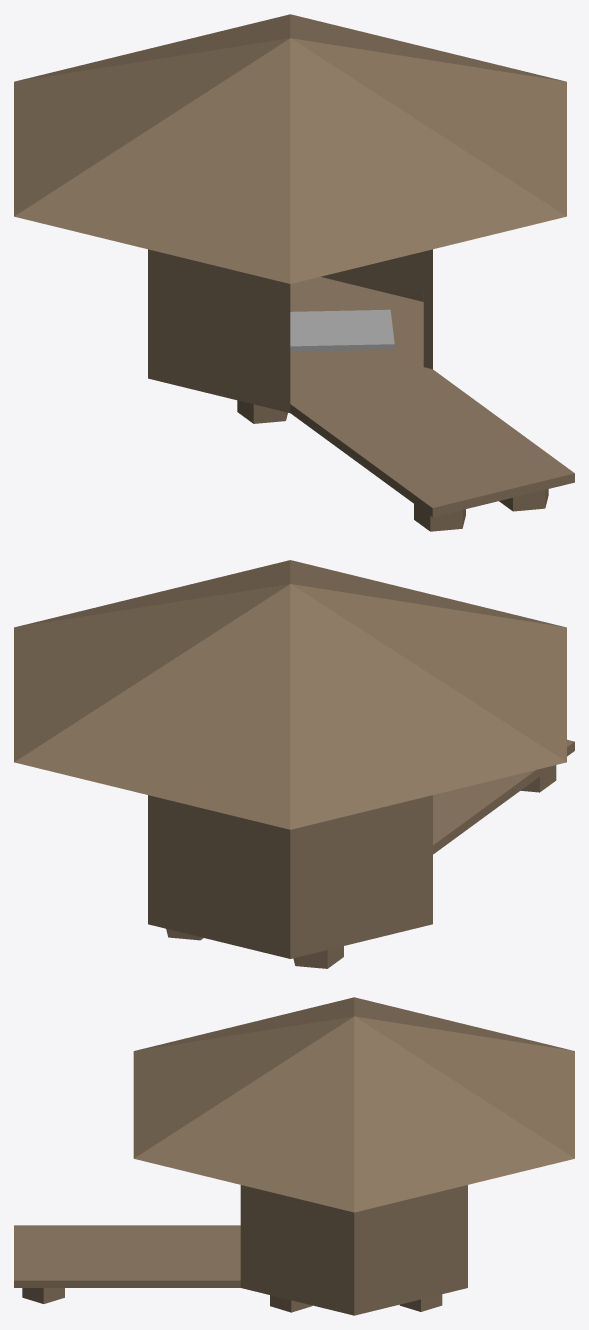
File: SM_Hut-1_Round_01.fbx
The picture shows the model from 3 angles, top to bottom: view 1: azimuth 30°, elevation 25°; view 2: azimuth 150°, elevation 25°; view 3: azimuth 270°, elevation 25°; orthographic projection. The views are drawn at different scales.
Parts seen in each view (by area): view 1: polySurface51; view 2: polySurface51; view 3: polySurface51.
Boxes of the visible parts, x1=… form: polySurface51: x1=14, y1=14, x2=574, y2=531; polySurface51: x1=14, y1=560, x2=574, y2=968; polySurface51: x1=14, y1=997, x2=574, y2=1315.
Bounding box in the file's own units: 7.82 × 4.46 × 8.61.
